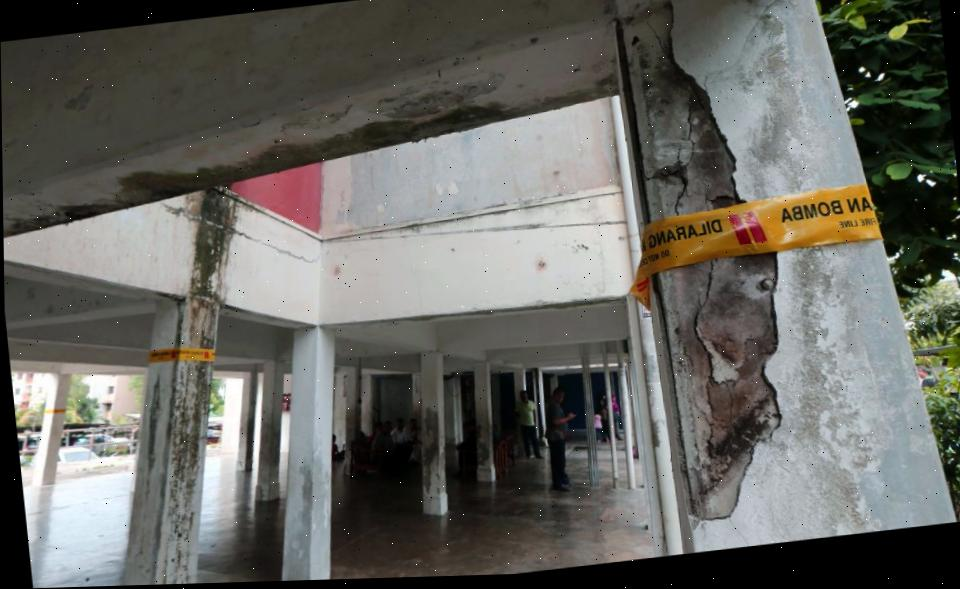spalling: (658, 254, 780, 517), (619, 4, 739, 221)
